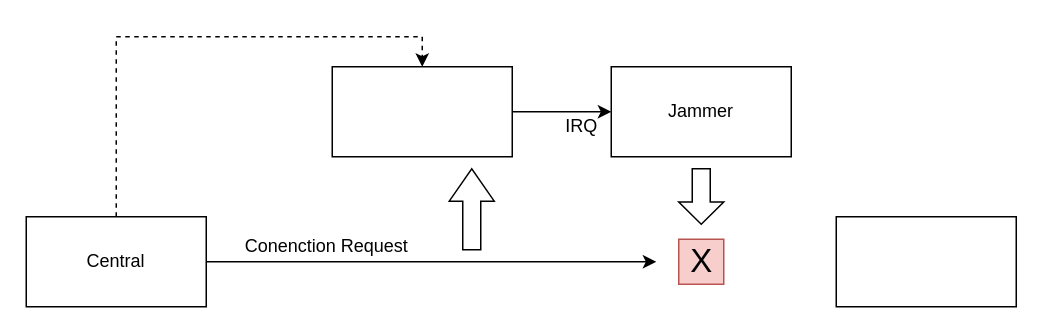
Some shapes in this 1043 by 333 pixel diagram are drawn without their labels. The shapes that lost their labels are listed below. From the top down, each one's box as (x1, y1, x2, y2) in pixels, then its label:
(331, 65, 512, 157): Peripheral Impersonator
(835, 215, 1016, 307): Peripheral
